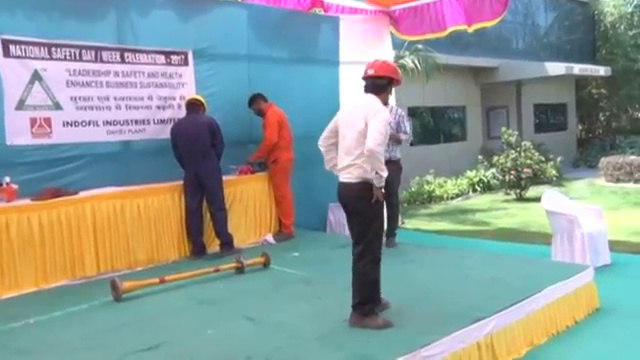helmet: (361, 58, 405, 87), (184, 94, 209, 112)
helmet_off: (248, 88, 271, 119)
helmet_on: (359, 56, 406, 110), (182, 91, 210, 119)
person: (317, 57, 404, 330), (171, 90, 245, 255), (248, 91, 297, 242), (382, 97, 412, 248)
